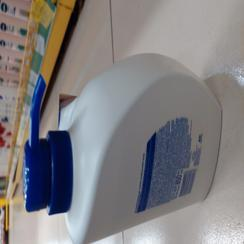dove: (21, 50, 225, 244)
